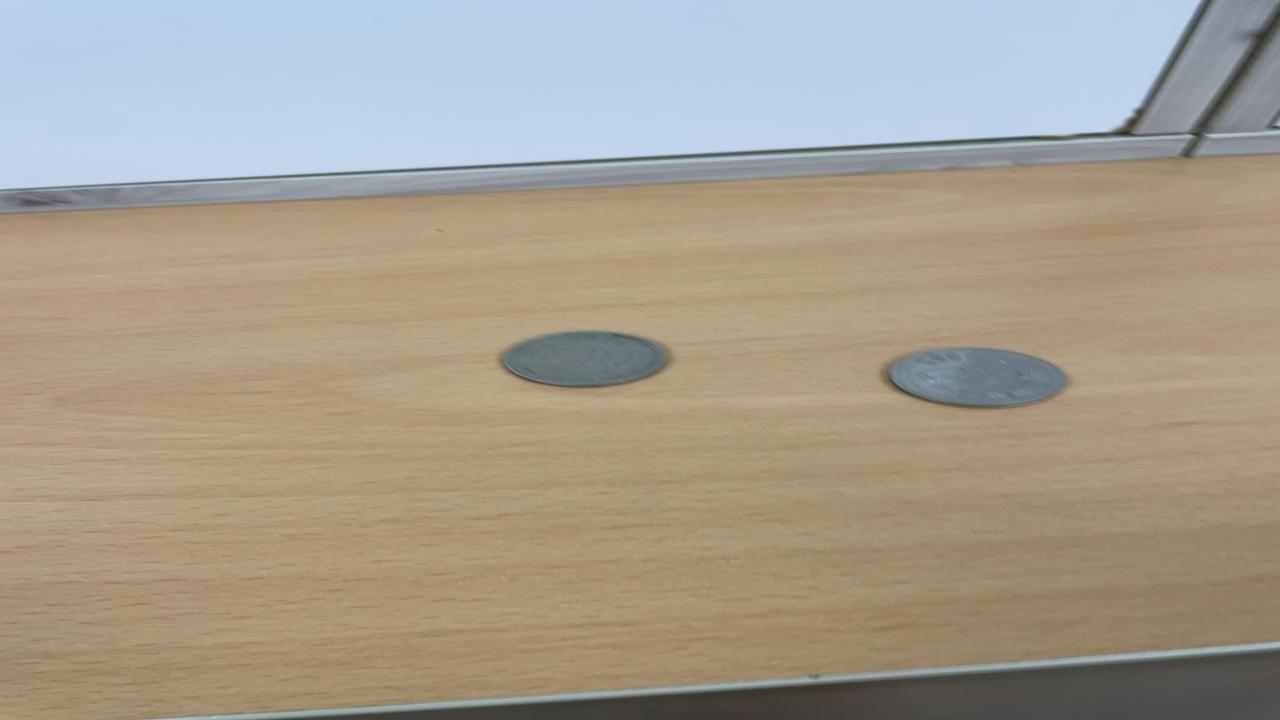coin: (888, 347, 1072, 409), (495, 328, 675, 390)
